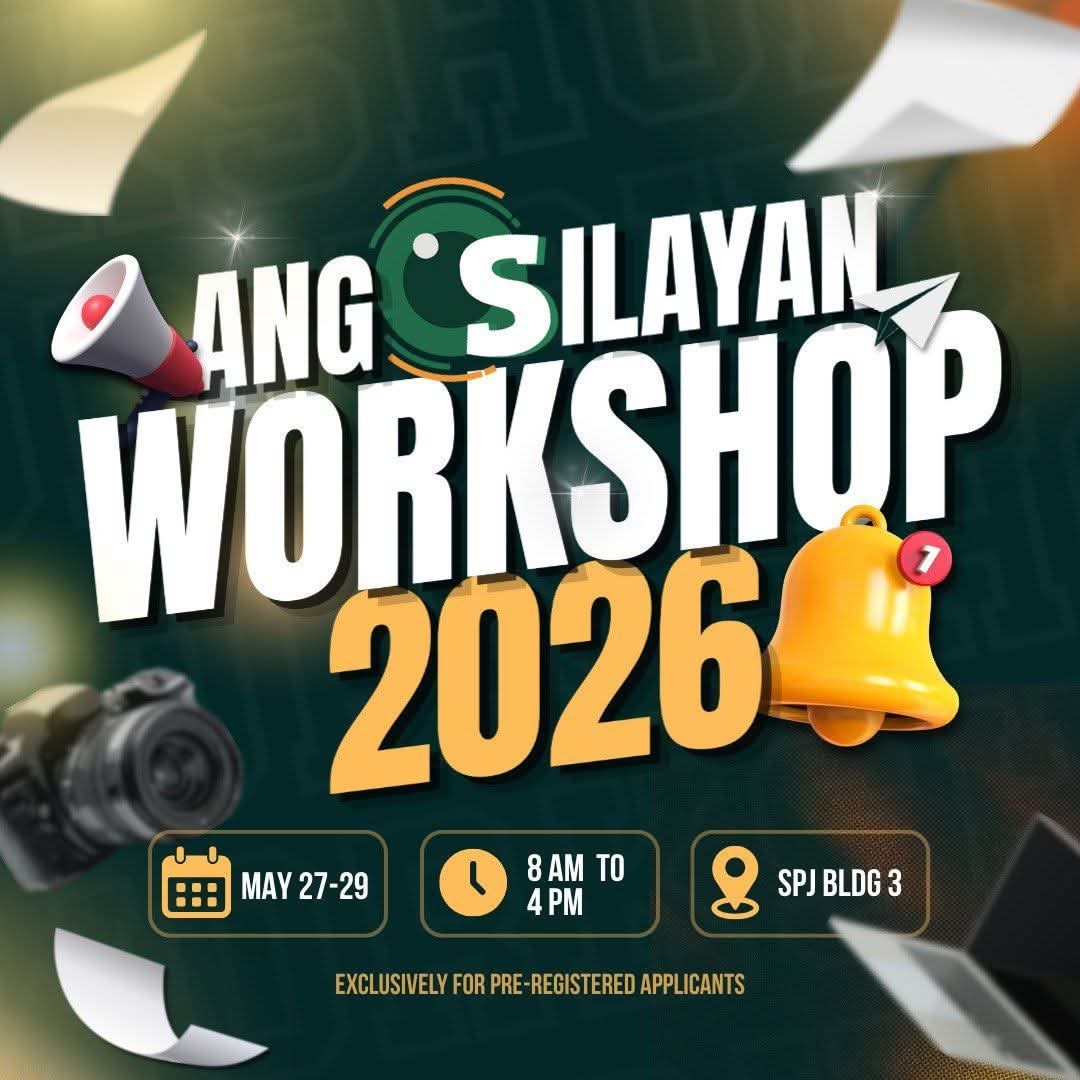embellishment: (158, 842, 236, 922), (435, 844, 513, 923), (706, 841, 766, 922)
text: (326, 962, 755, 1007), (518, 844, 635, 920), (232, 860, 377, 909), (774, 856, 911, 907)
